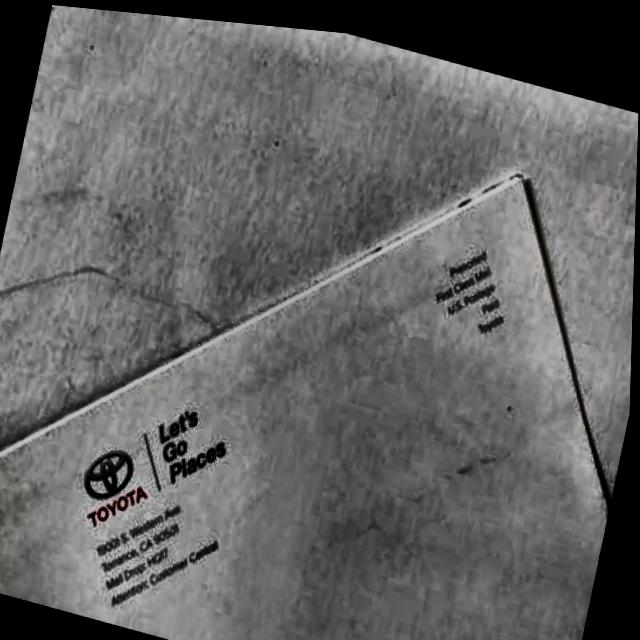Paper: (0, 36, 639, 640)
